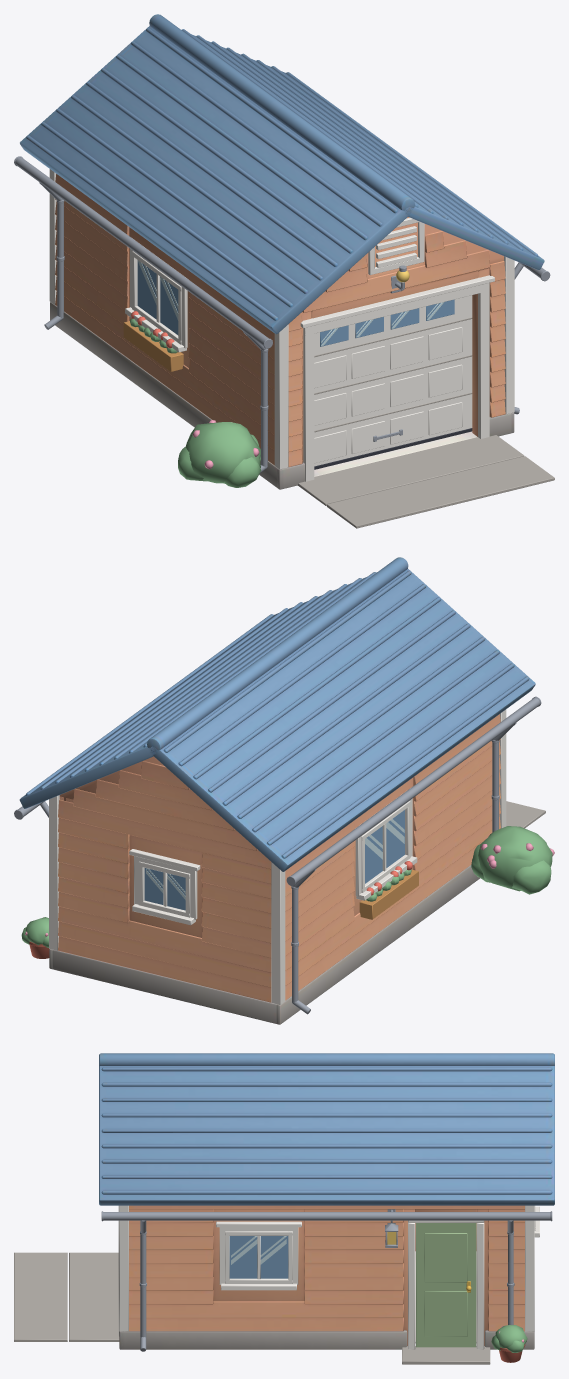
Rendered from garage.glb.
3 views of the same model, one above another, from view 1: azimuth 30°, elevation 25°; view 2: azimuth 150°, elevation 25°; view 3: azimuth 270°, elevation 25° (orthographic). The views are drawn at different scales.
Parts seen in each view (by area): view 1: garage_body, garage_details, garage_gate_panel, garage_plants; view 2: garage_body, garage_details, garage_plants, garage_glints; view 3: garage_body, garage_details, garage_door_l, garage_frame, garage_plants, garage_glints.
Part boxes in pixels (box(x1,y1,x2,y2)): garage_body: box(20, 14, 544, 489); garage_details: box(14, 156, 554, 528); garage_gate_panel: box(314, 295, 472, 469); garage_plants: box(178, 420, 261, 487); garage_body: box(19, 557, 535, 1024); garage_details: box(14, 696, 545, 1014); garage_plants: box(21, 826, 554, 947); garage_glints: box(146, 819, 404, 899); garage_body: box(99, 1053, 554, 1349); garage_details: box(14, 1205, 552, 1364); garage_door_l: box(416, 1223, 476, 1347); garage_frame: box(408, 1220, 484, 1349); garage_plants: box(491, 1325, 527, 1352); garage_glints: box(231, 1236, 286, 1264).
Size of the model in its own units: 5.27 by 3.96 by 7.95.
Materials: 19 (1 with a texture image).
